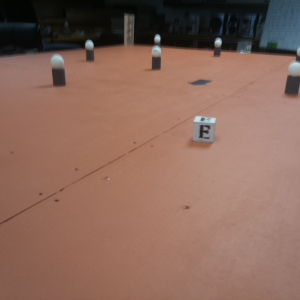blockE: (189, 115, 218, 145)
corner: (124, 15, 135, 47)
obstacle: (47, 56, 69, 88), (285, 63, 300, 99), (150, 47, 162, 71), (84, 42, 96, 63), (211, 39, 222, 55), (154, 34, 162, 45), (296, 47, 300, 62)
start: (186, 77, 214, 86)
